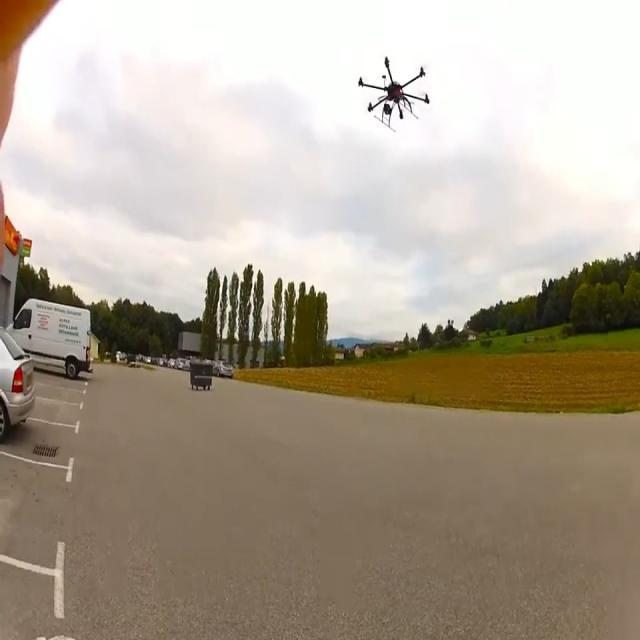drone: (358, 54, 430, 131)
